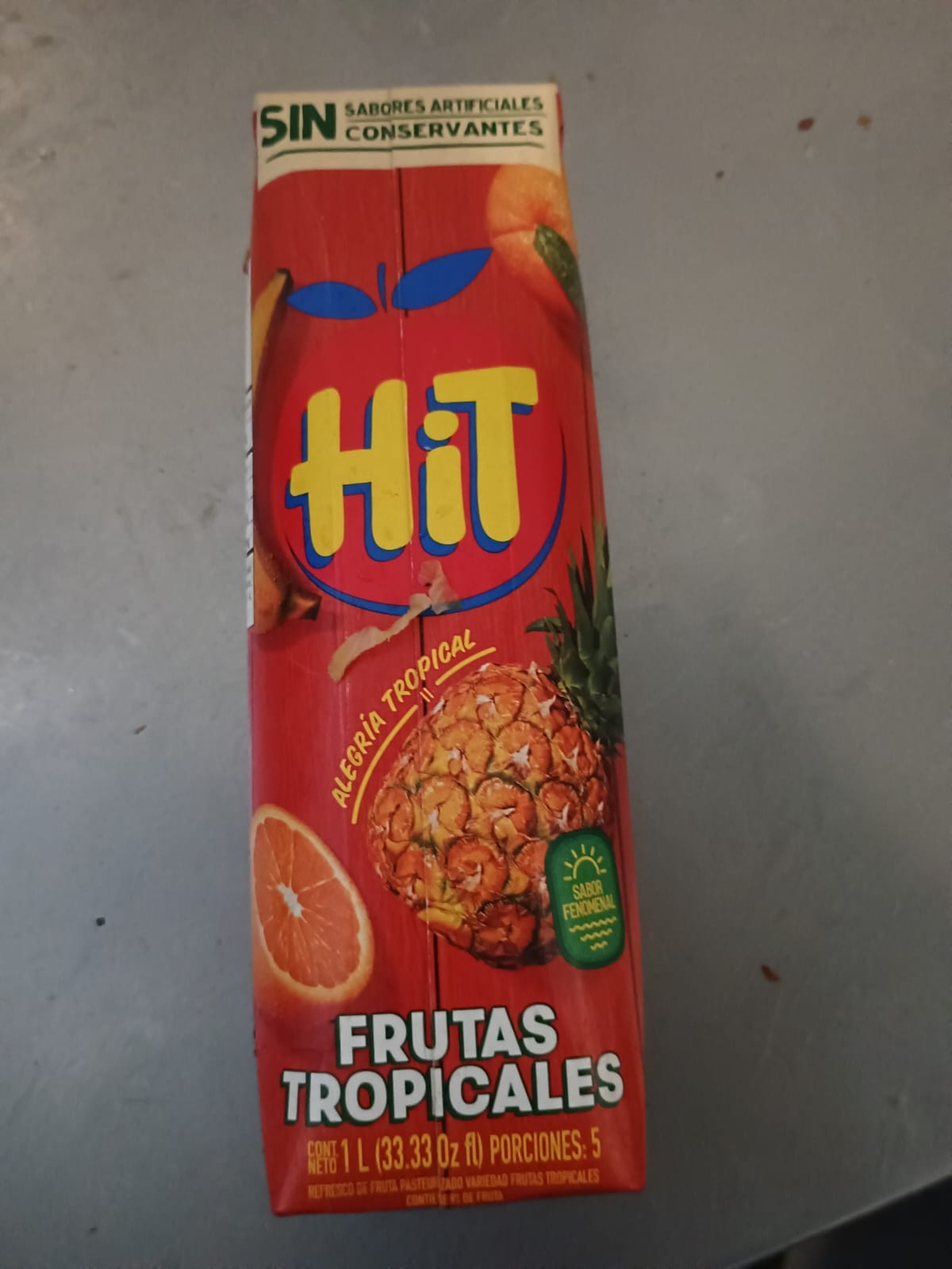Carton: (246, 83, 655, 1212)
